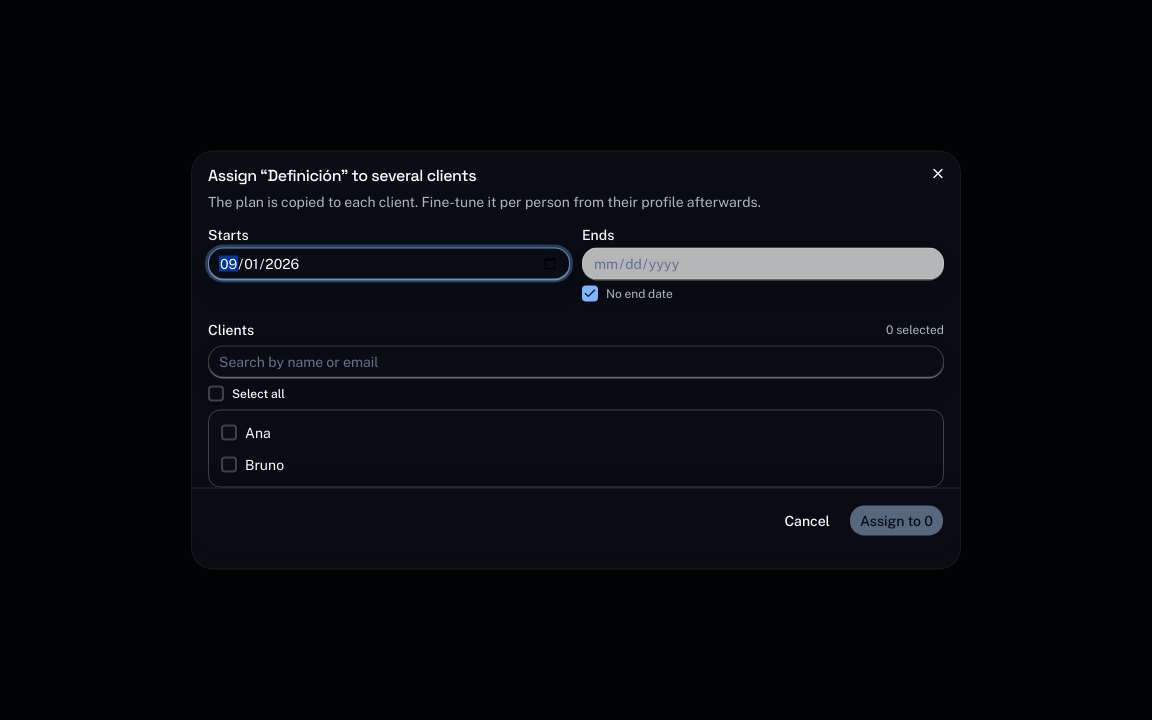
it: NutritionBulkAssignDialog › shows the affected clients FIRST, above the untouched ones
Click the checkbox next to "Ana" at point(229, 432), box x1=221 y1=424 x2=237 y2=440
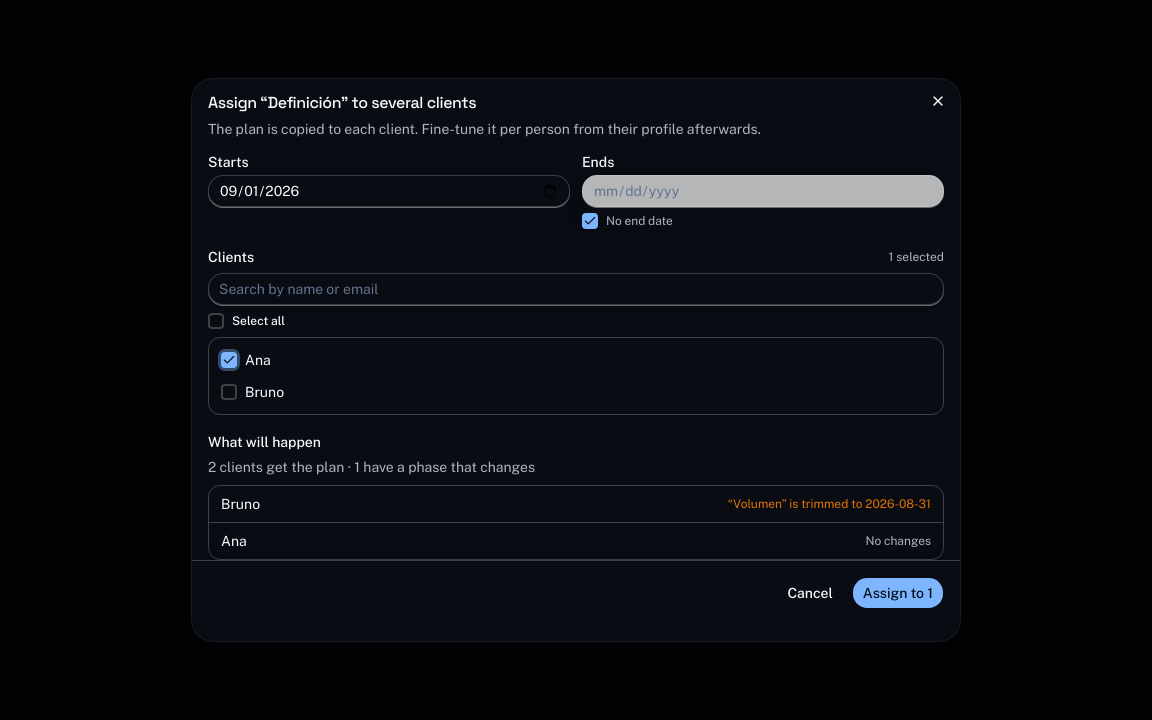
Expected: the list with test id "nutrition-bulk-preview" shows "“Volumen” is trimmed to 2026-08-31", x1=728 y1=497 x2=931 y2=511
